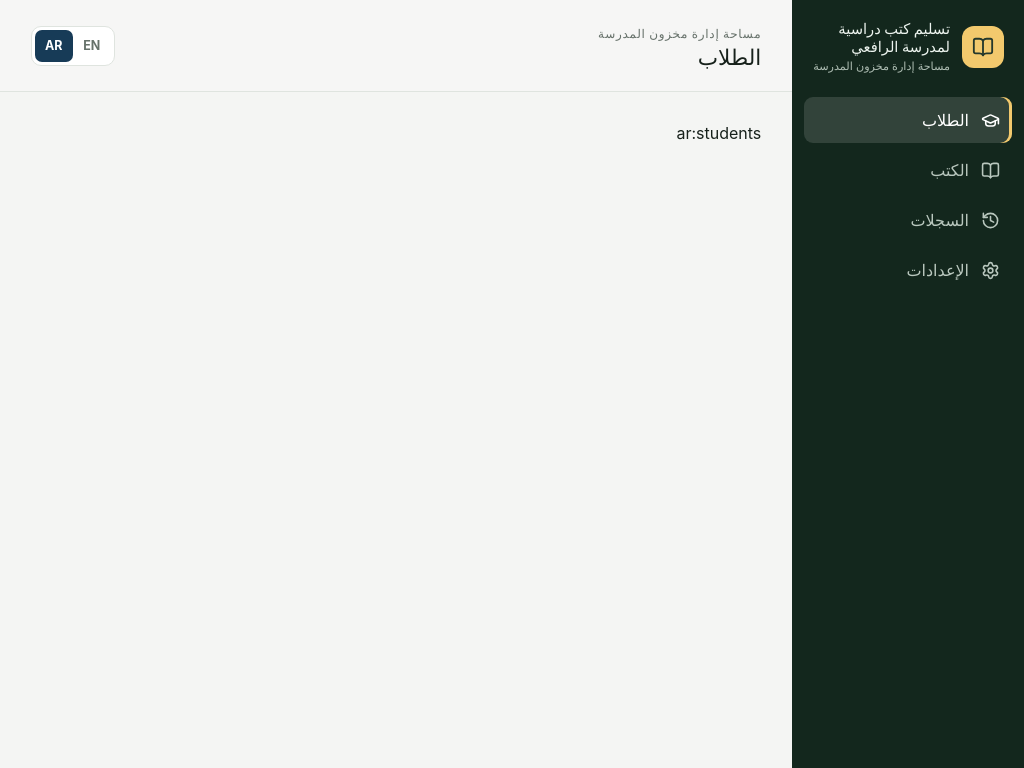
Test: AppShell › renders labelled navigation and updates document direction
Click the button "EN" at (92, 46), box top-left (73, 30), bottom-right (111, 62)
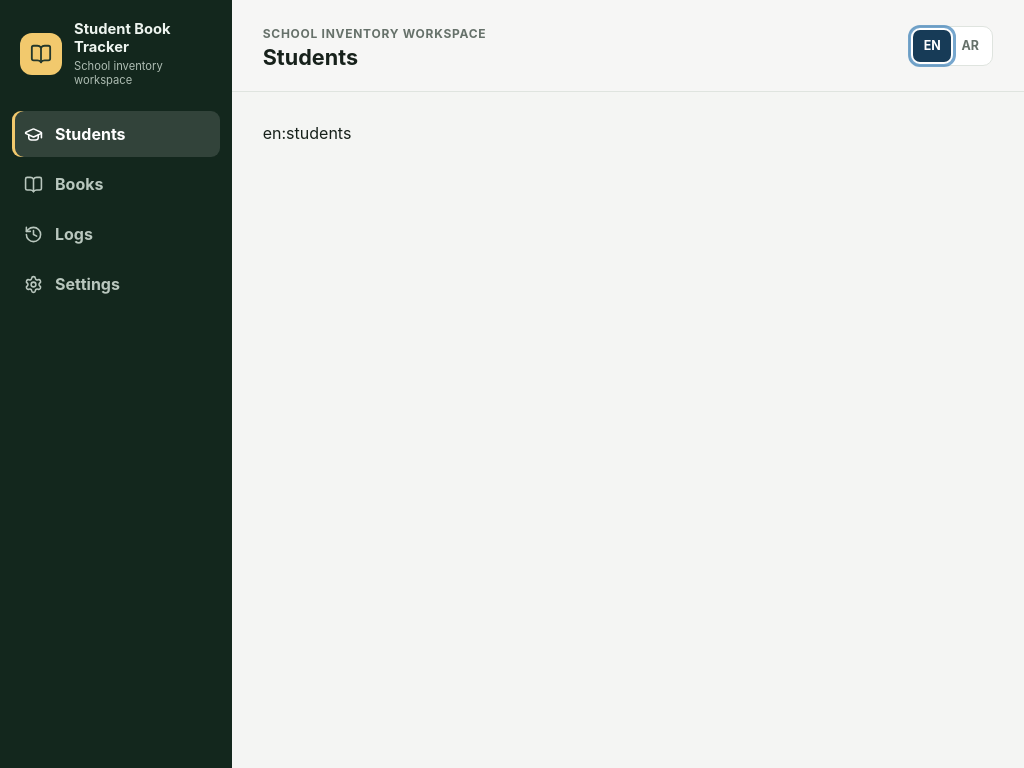
Expected: the button "Students" is shown, top-left (12, 111), bottom-right (220, 157)
Expected: the button "Books" is shown, top-left (12, 161), bottom-right (220, 207)
